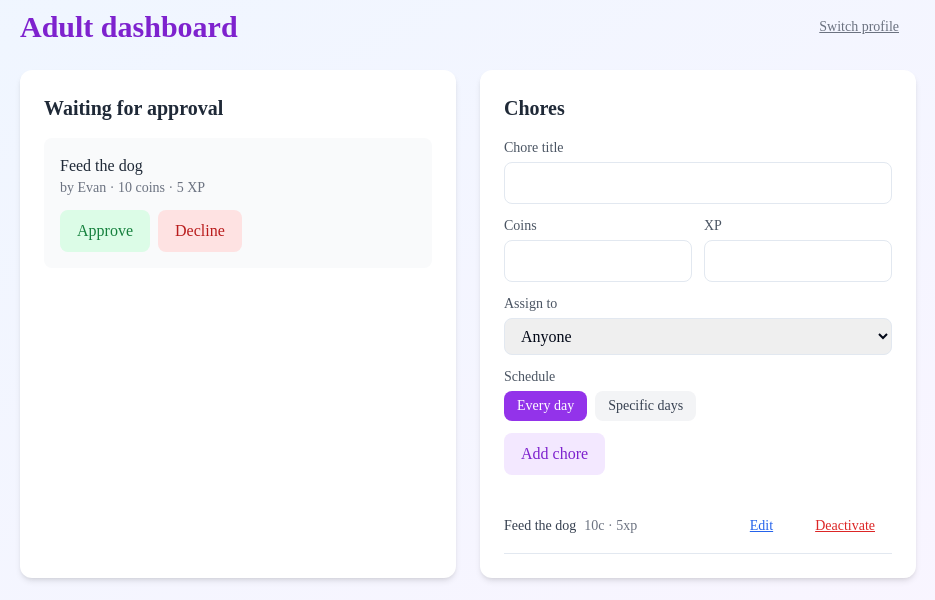
Test: AdultDashboard › deactivating a template shows it greyed out with a Reactivate option, still in the list
The width and height of the screenshot is (935, 600).
Click the button "Deactivate" at (845, 526), box [798, 507, 892, 545]
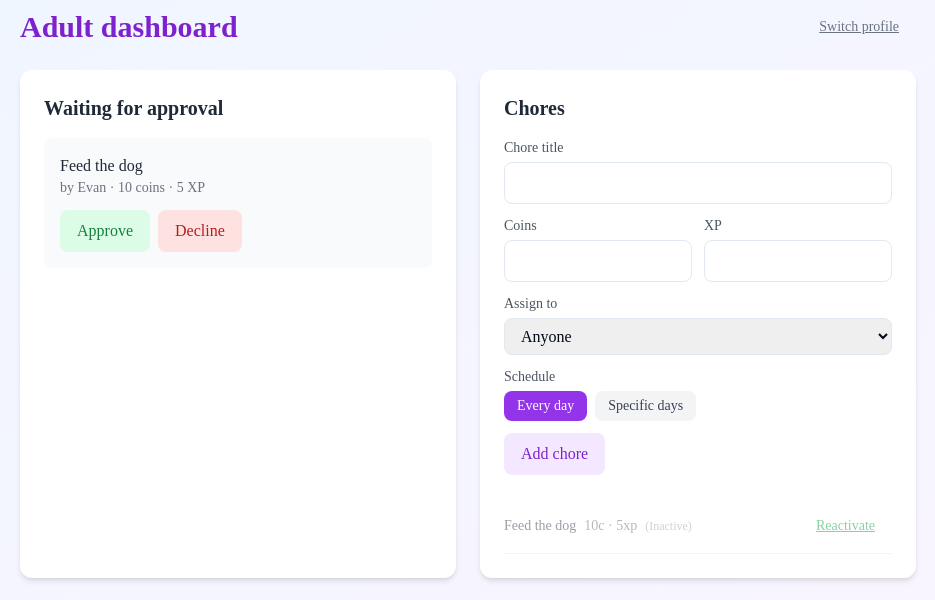
Check: the text "(Inactive)" is shown, box [645, 519, 692, 533]
Check: the button "Reactivate" is shown, box [799, 507, 892, 545]
Check: the button "Deactivate" is gone
